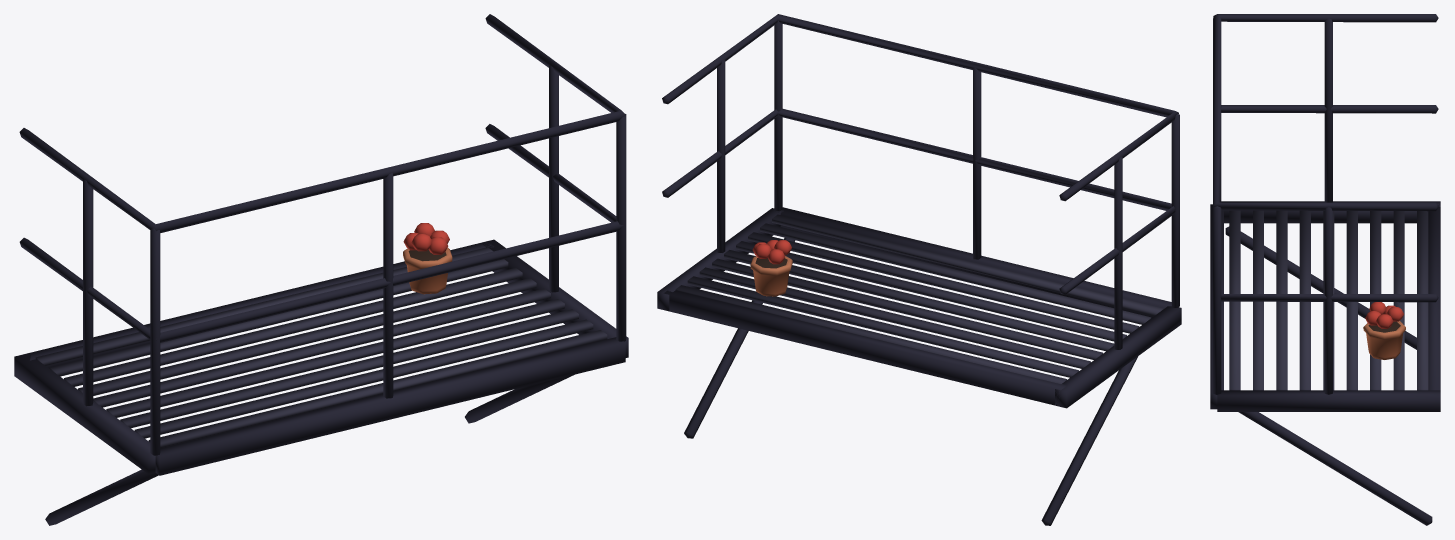
File: fire_escape_landing.glb
3 renders of one model, left to right at view 1: azimuth 30°, elevation 25°; view 2: azimuth 150°, elevation 25°; view 3: azimuth 270°, elevation 25°, orthographic. The views are drawn at different scales.
Parts seen in each view (by area): view 1: fire_escape_landing; view 2: fire_escape_landing; view 3: fire_escape_landing.
Boxes of the visible parts, x1,y1,x2,y2 form: fire_escape_landing: [14, 14, 628, 525]; fire_escape_landing: [657, 14, 1181, 525]; fire_escape_landing: [1210, 14, 1440, 525].
Bounding box in the file's own units: 2.06 × 1.64 × 1.03.
